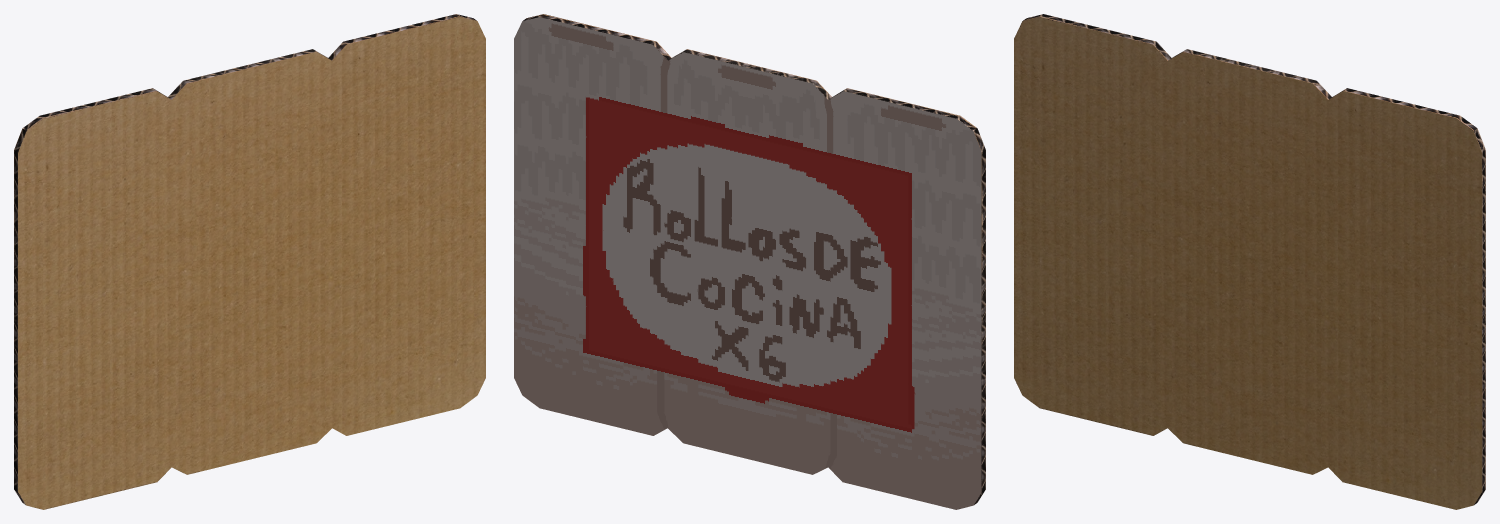
Rendered from ROLLOS DE COCINA.glb.
3 views of the same model, side by side, from view 1: azimuth 30°, elevation 25°; view 2: azimuth 150°, elevation 25°; view 3: azimuth 330°, elevation 25° (orthographic).
Visible parts, largest first — view 1: ROLLOS DE COCINA; view 2: ROLLOS DE COCINA; view 3: ROLLOS DE COCINA.
Boxes of the visible parts, x1,y1,x2,y2 form: ROLLOS DE COCINA: (14,14,485,509); ROLLOS DE COCINA: (514,14,985,509); ROLLOS DE COCINA: (1014,14,1485,509).
Size of the model in its own units: 6.12 by 4.89 by 0.09.
Materials: 1 (1 with a texture image).
